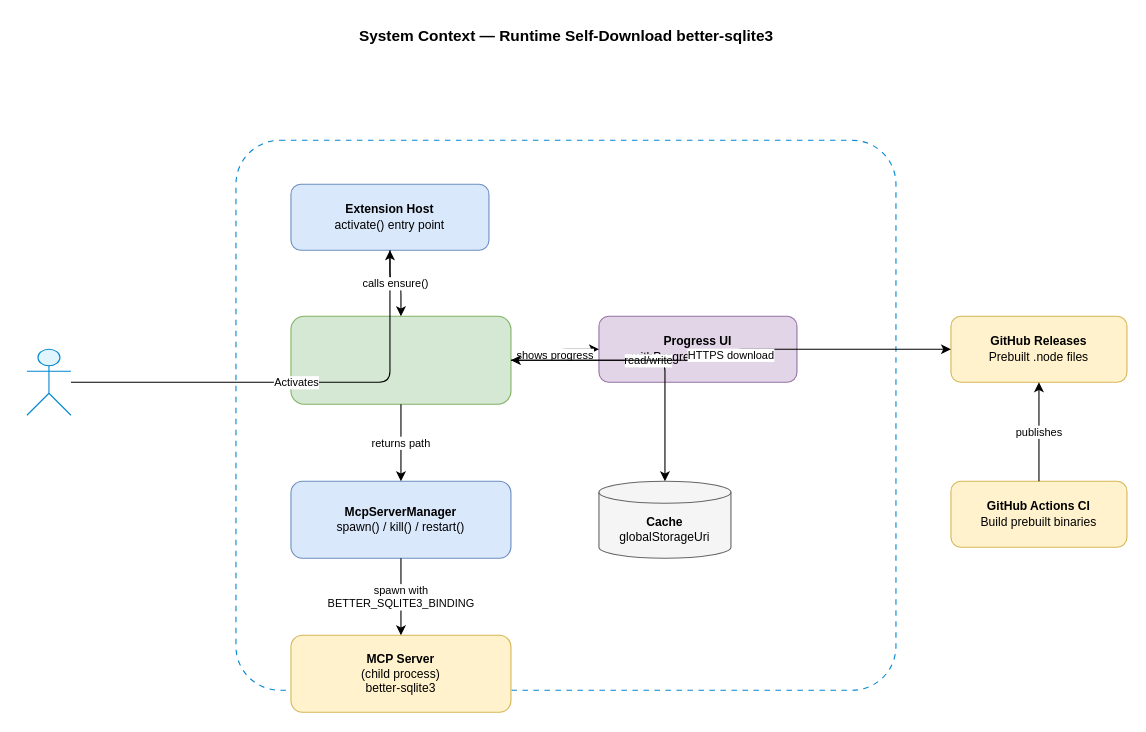
The diagram is 1146 pixels wide and 732 high, and some of its shapes have lost their labels. Each missing label, with the box of its shape:
Developer: (26, 348, 71, 415)
kiro-sdlc-agents Extension: (235, 139, 896, 690)
NativeAddonManager ensure() / getCachedPath() redownload(): (290, 315, 511, 404)
